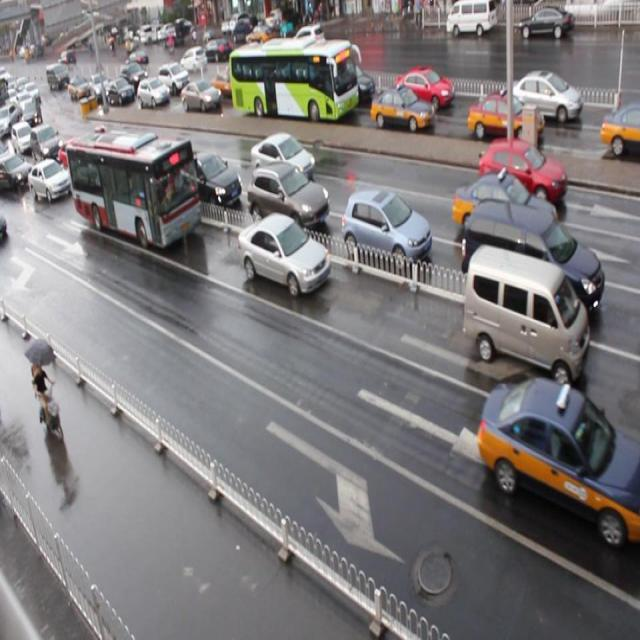BigCar: (58, 141, 200, 250), (228, 38, 368, 128)
car: (472, 366, 640, 551), (465, 241, 607, 372), (458, 195, 622, 292), (325, 177, 435, 289), (235, 212, 352, 301)
